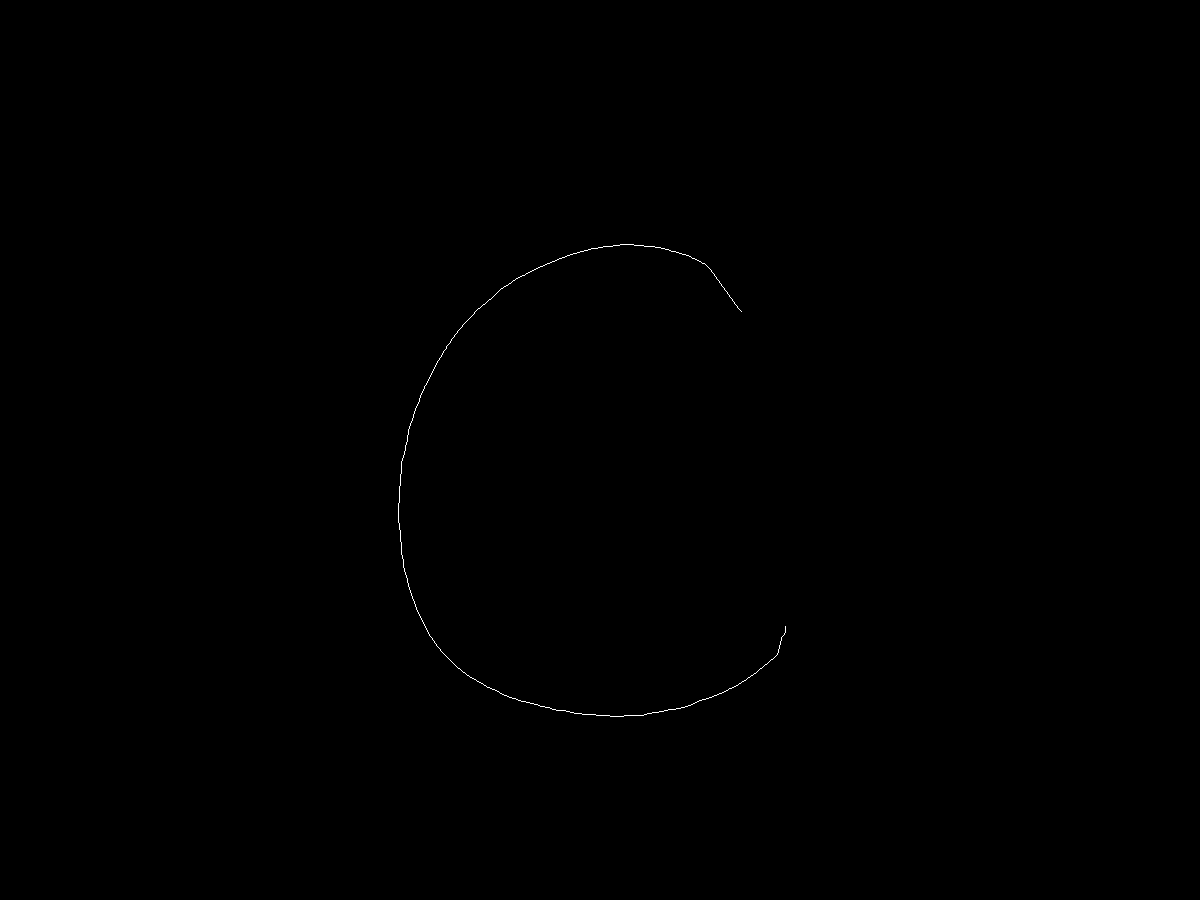dian1: (726, 307, 754, 323)
dian2: (777, 622, 800, 641)
